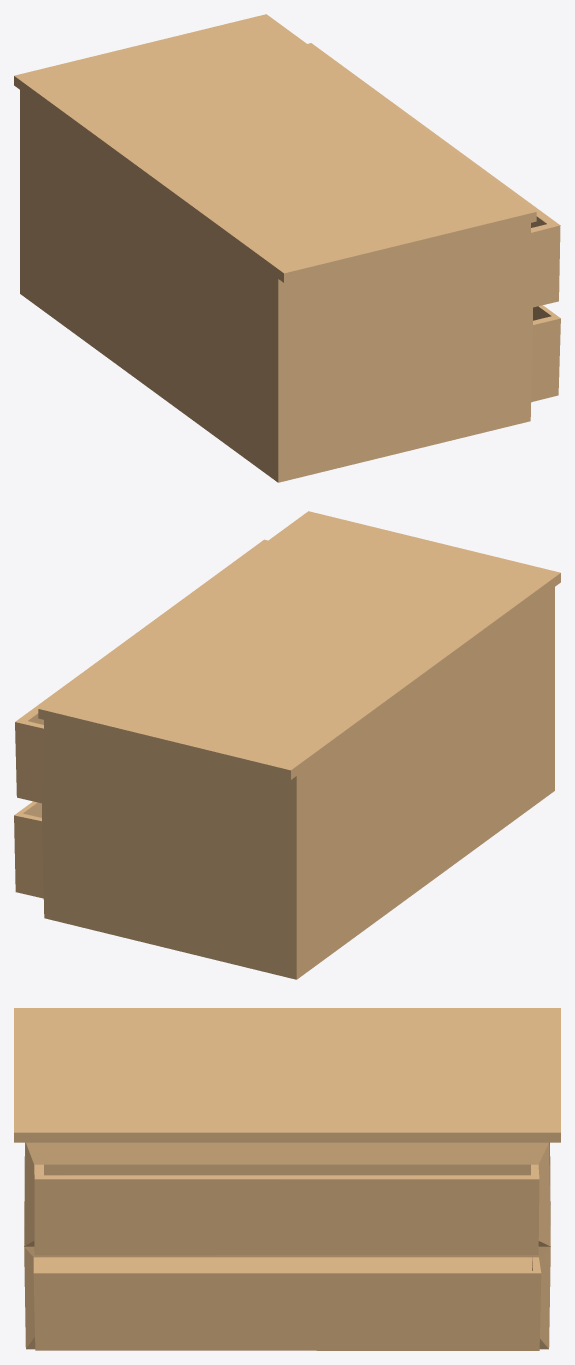
Rendered from MesaTVcuarto.fbx.
3 renders of one model, top to bottom at view 1: azimuth 30°, elevation 25°; view 2: azimuth 150°, elevation 25°; view 3: azimuth 270°, elevation 25°, orthographic.
Visible parts, largest first — view 1: MesaTV/mapeada9(texturizao); view 2: MesaTV/mapeada9(texturizao); view 3: MesaTV/mapeada9(texturizao).
Boxes of the visible parts, box(x1,y1,x2,y2) form: MesaTV/mapeada9(texturizao): box(14, 14, 560, 482); MesaTV/mapeada9(texturizao): box(14, 511, 560, 979); MesaTV/mapeada9(texturizao): box(14, 1008, 560, 1350).
Bounding box in the file's own units: 251 × 179 × 410.
